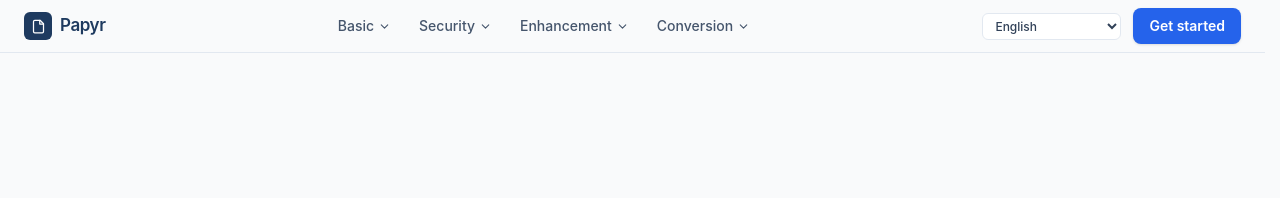
Test case: SH-05 Navbar — DOM interaction › desktop category dropdown › opens dropdown on click and shows tool links
Step 1. Click the button "Basic" → [364, 26], box left=326, top=10, right=403, bottom=42
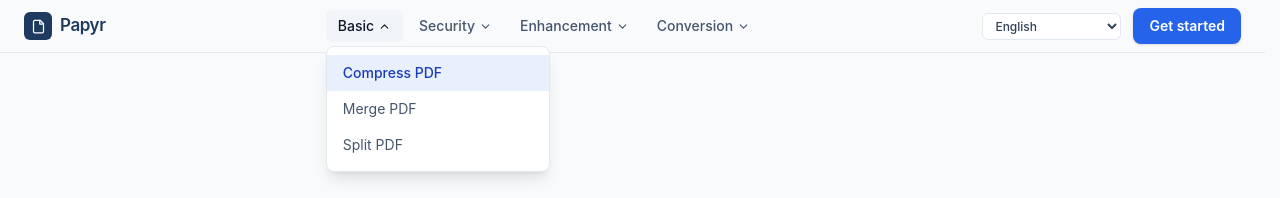
expect the button "Basic" is expanded: met, box left=326, top=10, right=403, bottom=42
expect the element showing "Compress PDF Merge PDF Split PDF" is shown: met, box left=326, top=46, right=550, bottom=172
